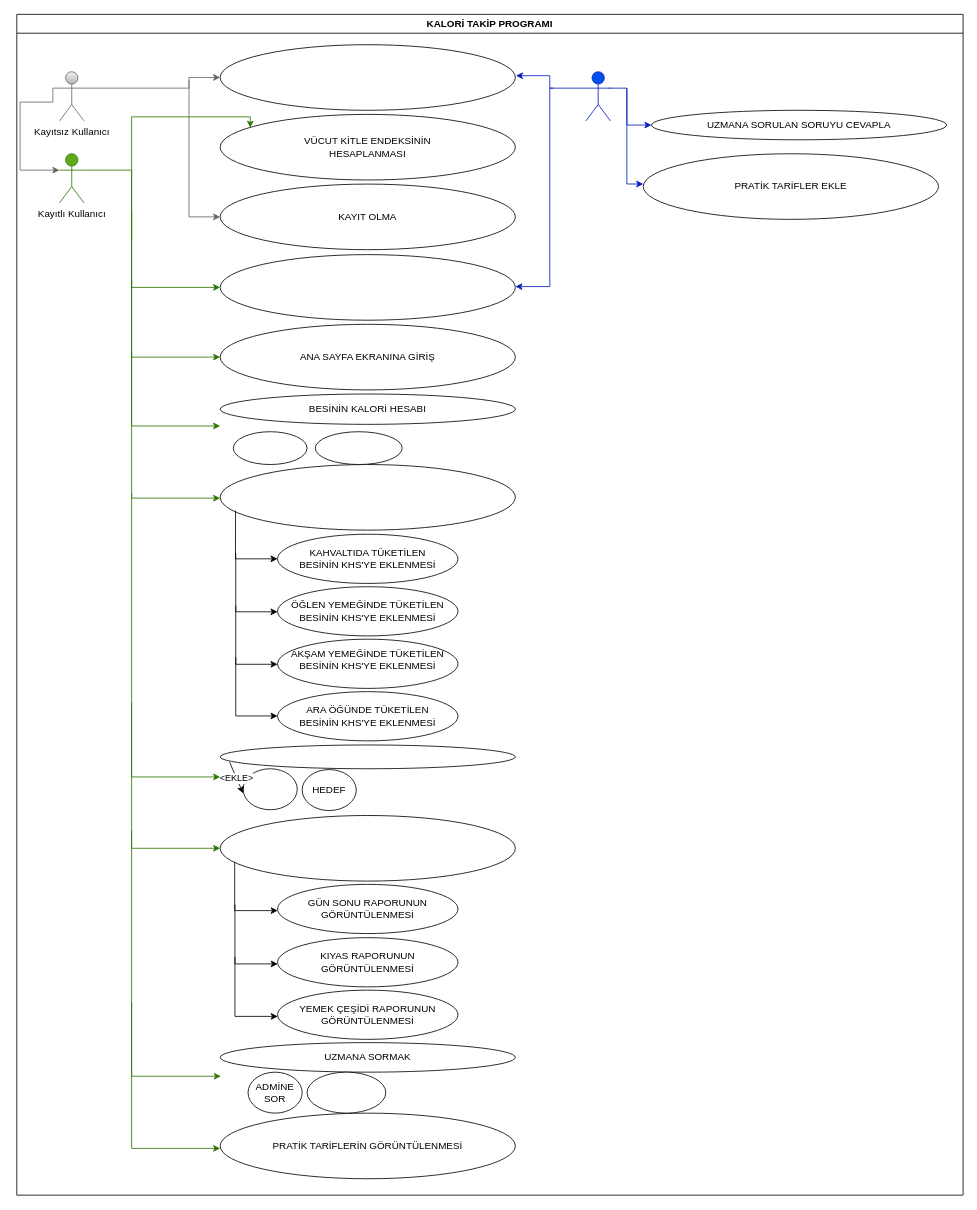
This 977x1210 diagram has some shape labels left out. The shapes that lost their labels are listed below. From the top down, each one's centre as x and y in pixels, then its label:
[367,77]: GİRİŞ EKRANININ GÖRÜNTÜLENMESİ
[597,96]: Admin
[367,287]: KAYITLI KULLANICI GİRİŞİ
[269,448]: BESİN EKLE
[358,448]: KALORİ HESAPLA
[367,497]: TÜKETİLEN BESİNİN KALORİ TAKİBİ
[367,756]: TÜKETİLEN SU MİKTARININ GİRİLMESİ
[269,789]: SU EKLE
[367,848]: RAPORLARIN GÖRÜNTÜLENMESİ
[346,1092]: DİYETİSYENE SOR
